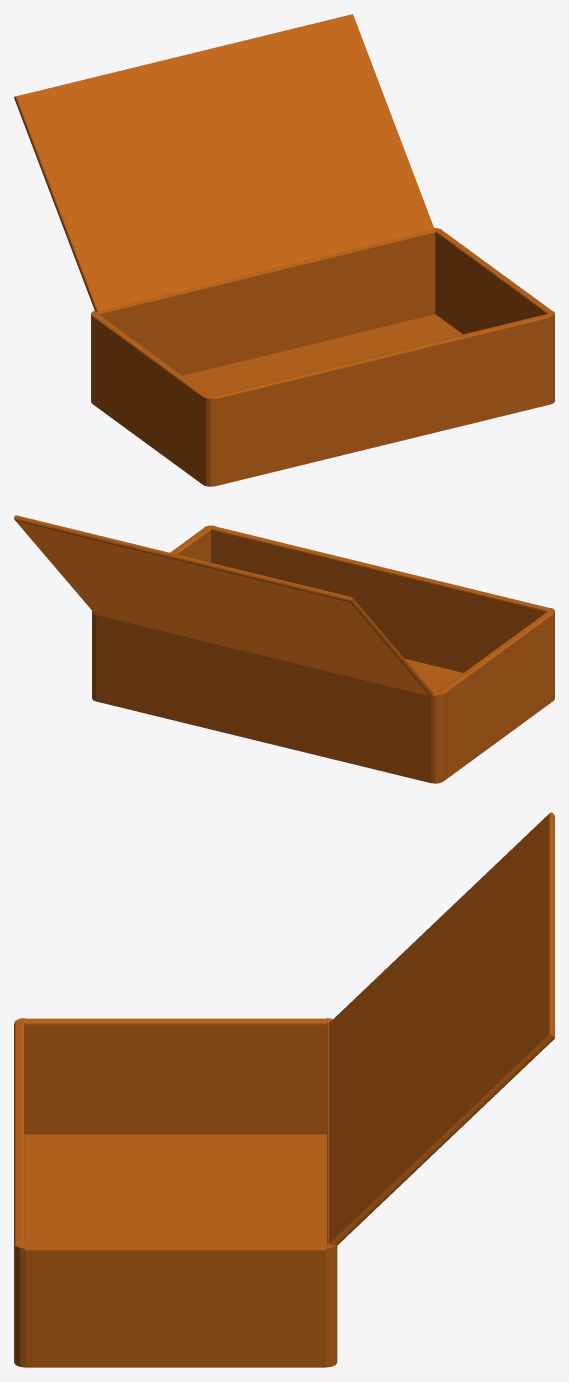
File: MClose.glb
3 views of the same model, one above another, from view 1: azimuth 30°, elevation 25°; view 2: azimuth 150°, elevation 25°; view 3: azimuth 270°, elevation 25° (orthographic). The views are drawn at different scales.
Visible parts, largest first — view 1: TopLuggage, TopLuggage.001; view 2: TopLuggage, TopLuggage.001; view 3: TopLuggage, TopLuggage.001.
Boxes of the visible parts, x1,y1,x2,y2 form: TopLuggage: (91, 228, 554, 486); TopLuggage.001: (14, 14, 434, 312); TopLuggage: (92, 525, 554, 783); TopLuggage.001: (14, 515, 433, 696); TopLuggage: (14, 1018, 337, 1367); TopLuggage.001: (329, 812, 554, 1245).
Size of the model in its own units: 3.35 by 2.23 by 3.32.
